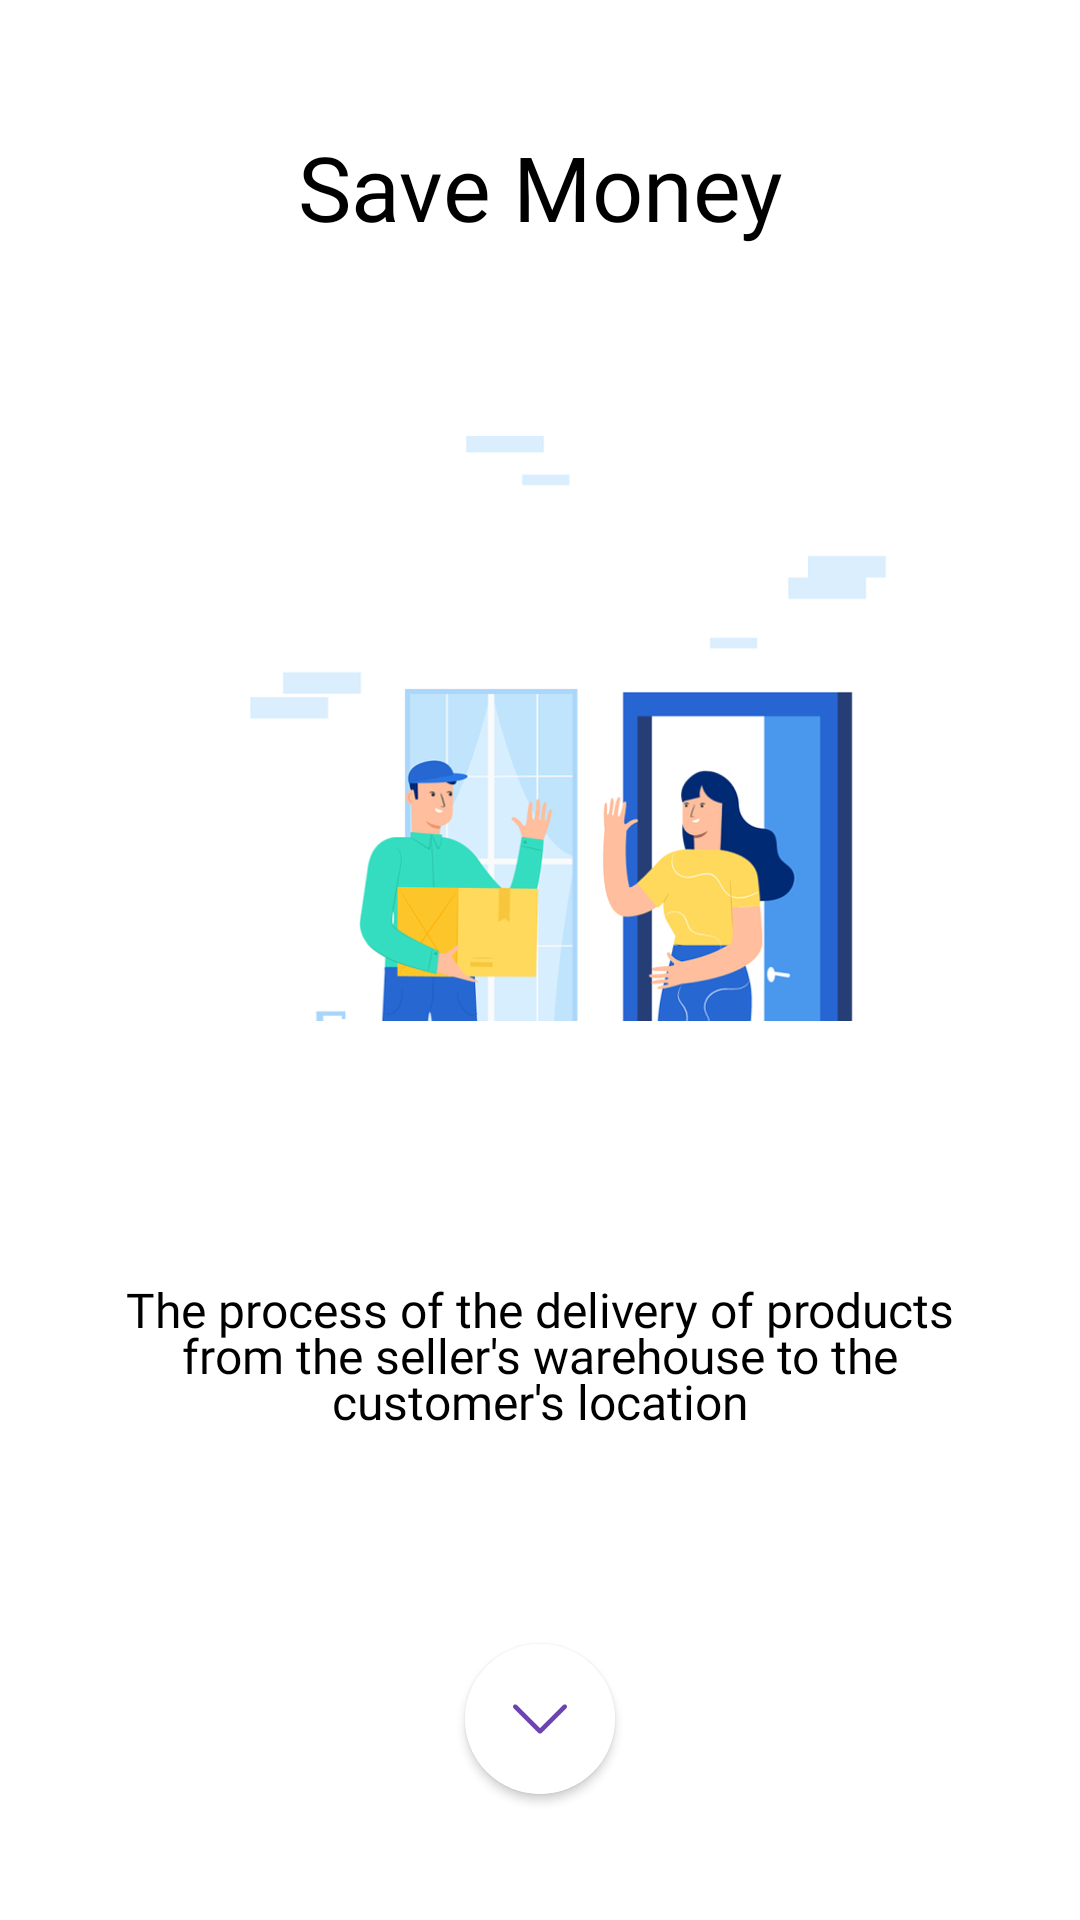

Icon bounding boxes for this 1080px x 1920px phone screenshot, format region(x1, y1, x2, y2):
down arrow: region(465, 1704, 615, 1794)
